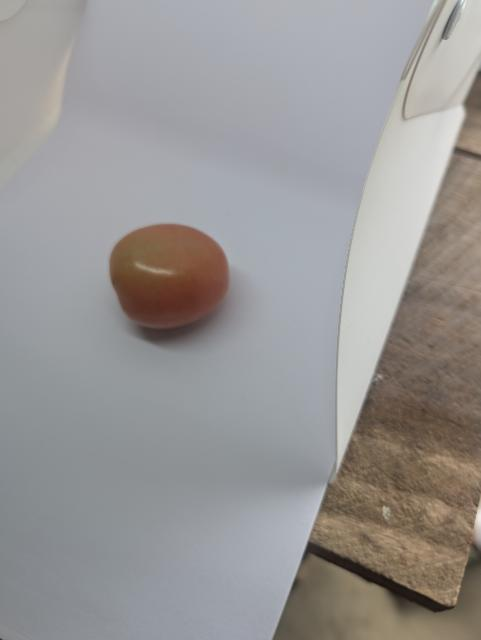turning: (104, 220, 242, 334)
